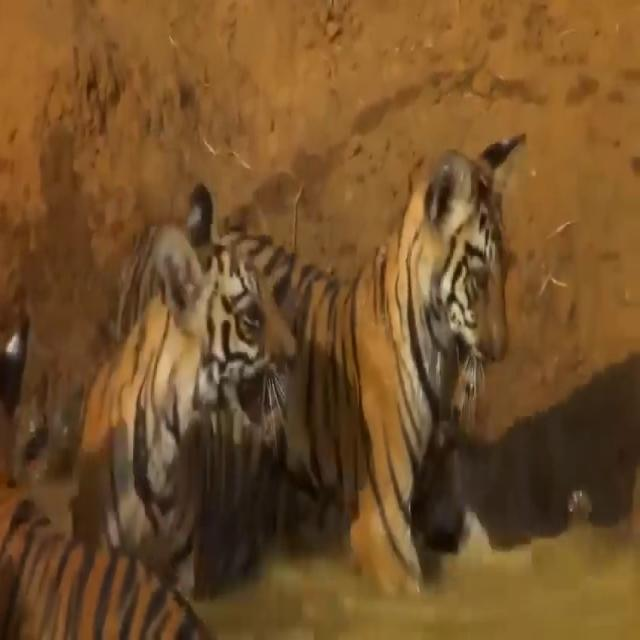tiger: (194, 130, 526, 597), (76, 190, 299, 598)
